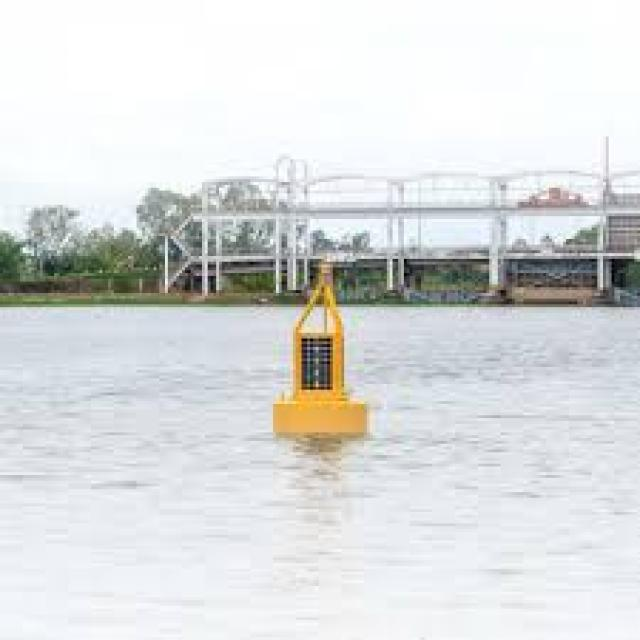2.5 sepcial mark: (272, 250, 367, 453)
